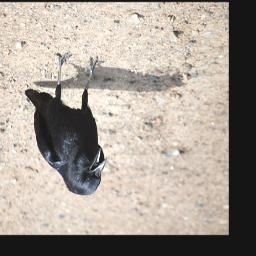Crow: (25, 52, 108, 196)
